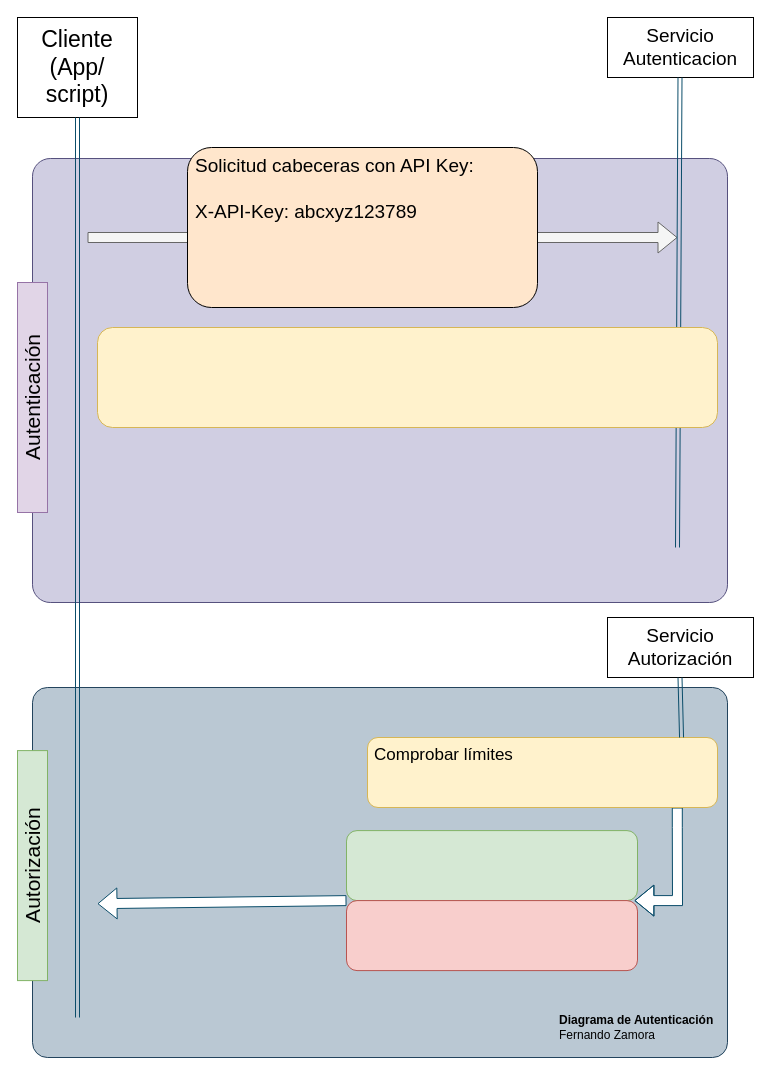
The diagram is 771 pixels wide and 1075 high, and some of its shapes have lost their labels. Each missing label, with the centre of its shape:
"Extraer key SHA-256(key) Buscar hash Comprobar permisos" goes at (x=407, y=377).
"Permiso NO OK: 40X" goes at (x=492, y=935).
"Permiso OK: 200 + Datos" goes at (x=492, y=865).
